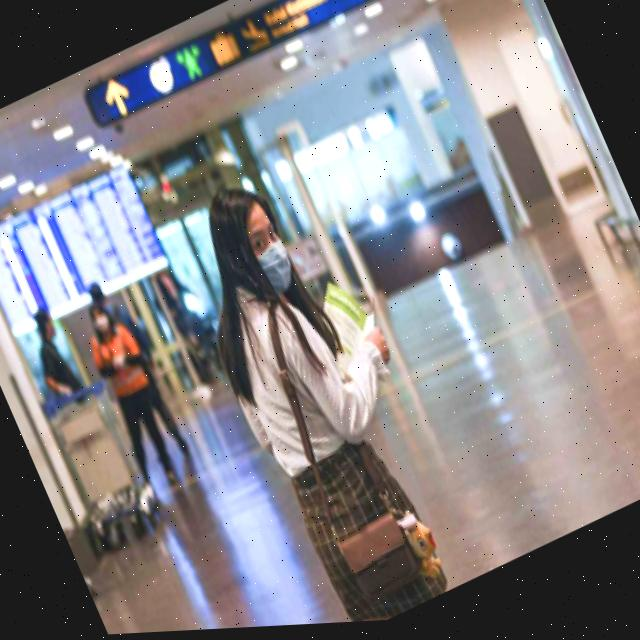Mask: (242, 235, 302, 303)
